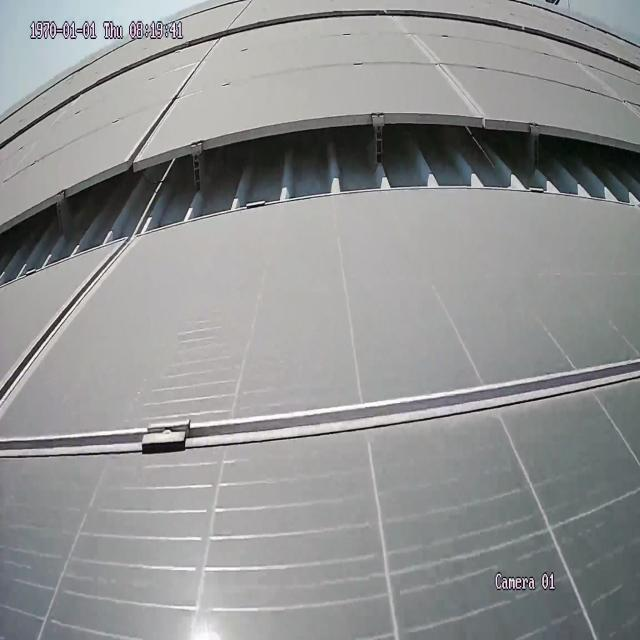interior panel: (4, 354, 638, 465), (0, 253, 129, 415), (123, 41, 225, 151), (390, 24, 480, 106)
outher panel: (0, 114, 639, 288)
